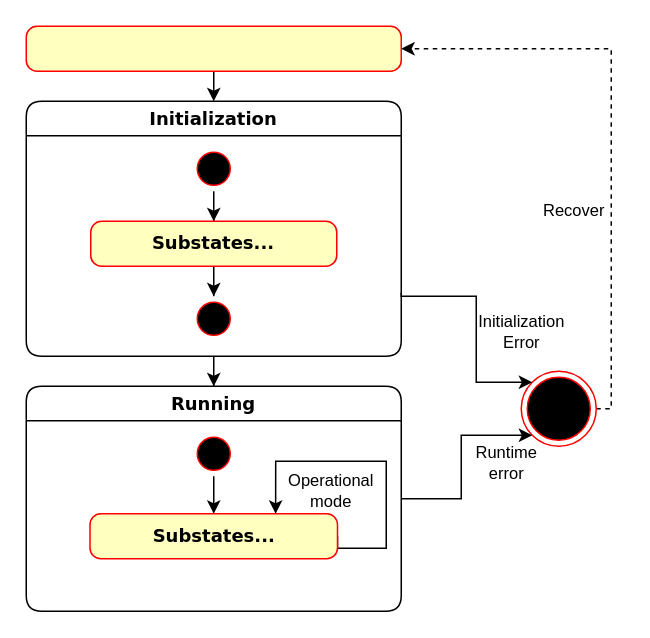
The diagram is 650 pixels wide and 638 high, and some of its shapes have lost their labels. Here are the shapes that lost their labels. From the top down, the centre of each, then its label:
the point at 213,48: Uninitialized
the point at 558,408: Error
